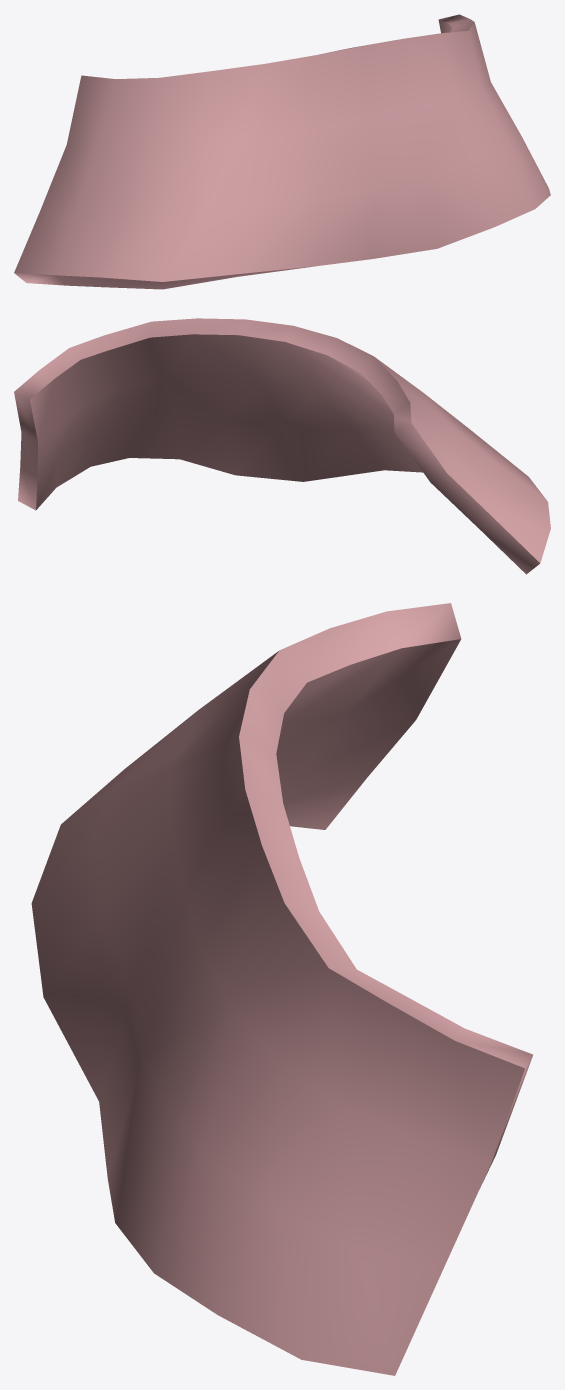
3 renders of one model, top to bottom at view 1: azimuth 30°, elevation 25°; view 2: azimuth 150°, elevation 25°; view 3: azimuth 270°, elevation 25°, orthographic. The views are drawn at different scales.
Visible parts, largest first — view 1: ZA_3808fbd3854c99ae; view 2: ZA_3808fbd3854c99ae; view 3: ZA_3808fbd3854c99ae.
Boxes of the visible parts, x1,y1,x2,y2 form: ZA_3808fbd3854c99ae: (14, 14, 550, 289); ZA_3808fbd3854c99ae: (14, 318, 550, 574); ZA_3808fbd3854c99ae: (31, 603, 532, 1375).
Bounding box in the file's own units: 0.0823 × 0.0329 × 0.0354.
